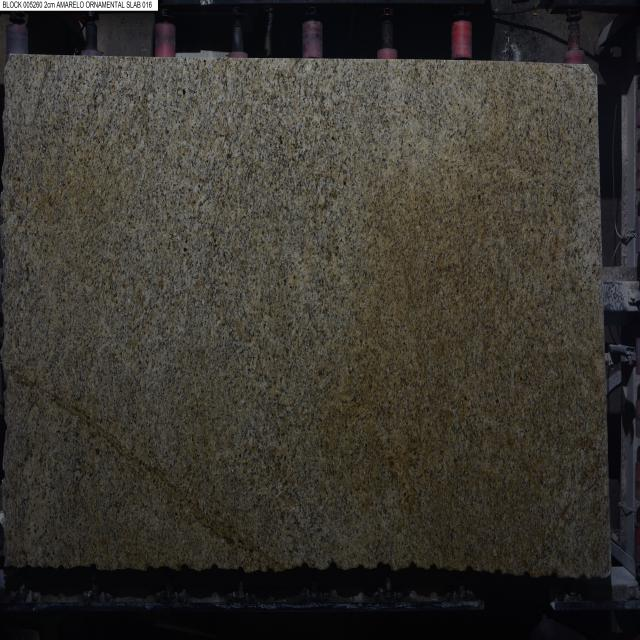chapa: (4, 58, 609, 578)
veio: (300, 560, 310, 572), (328, 559, 338, 571), (179, 563, 190, 573)
